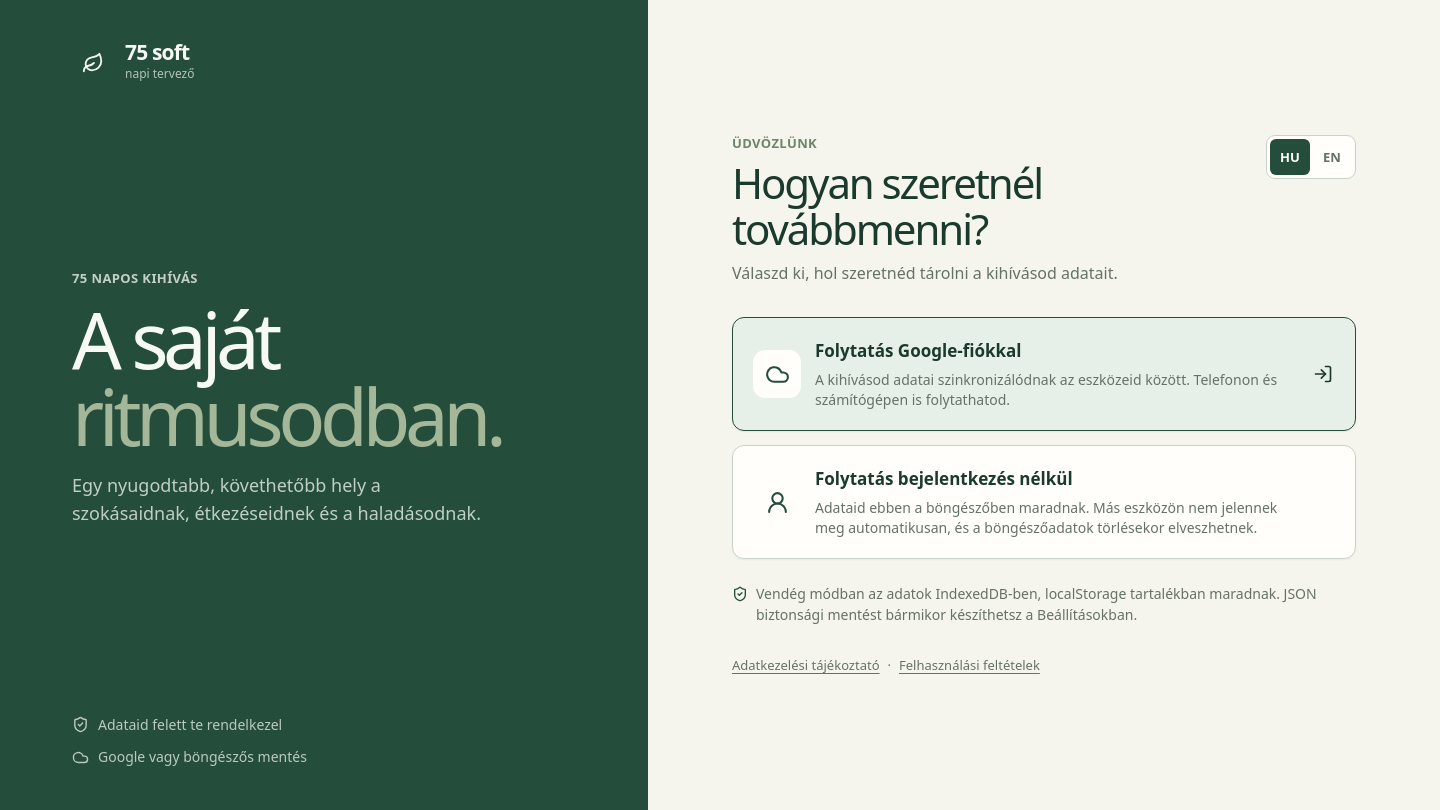
Test case: welcome entry and mobile language controls › switches language from a touch-sized control and persists the preference
Later steps or results of the test are not shown.
Click the button "EN": [1332, 157] box [1312,139,1352,175]
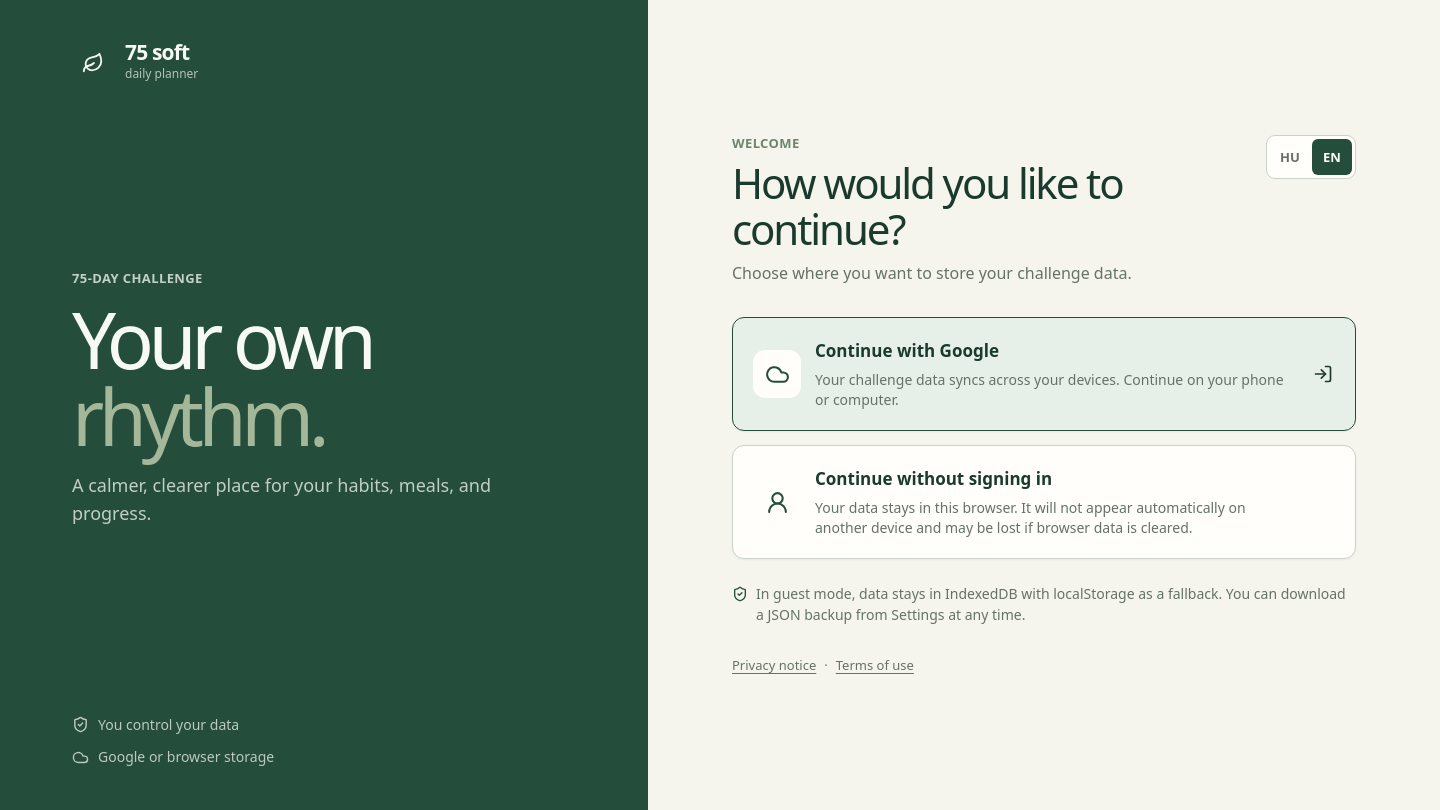
Result: the text "How would you like to continue?" is shown at [732,154,1122,257]
